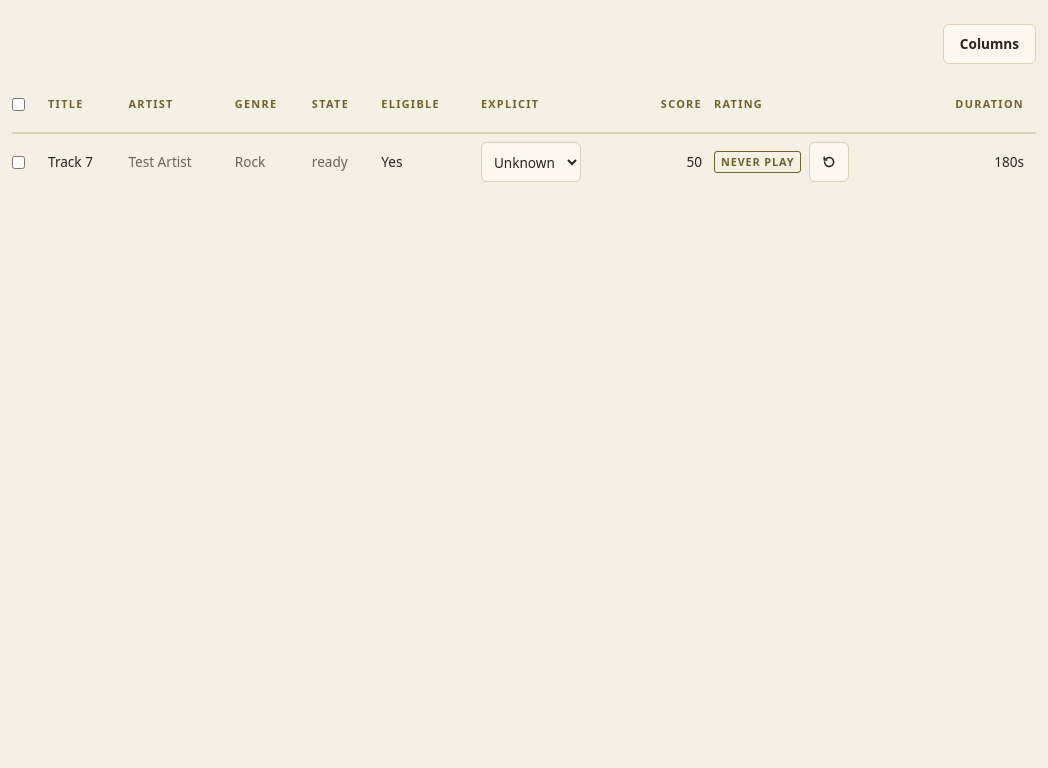
Scenario: Feature: Rating state in the Catalog page › Scenario: failures surface (sad path) › a failed restore toasts the outcome and keeps the badge (F31.3)
Click the button named "Restore to rotation".
click(829, 162)  # box [809, 142, 849, 182]
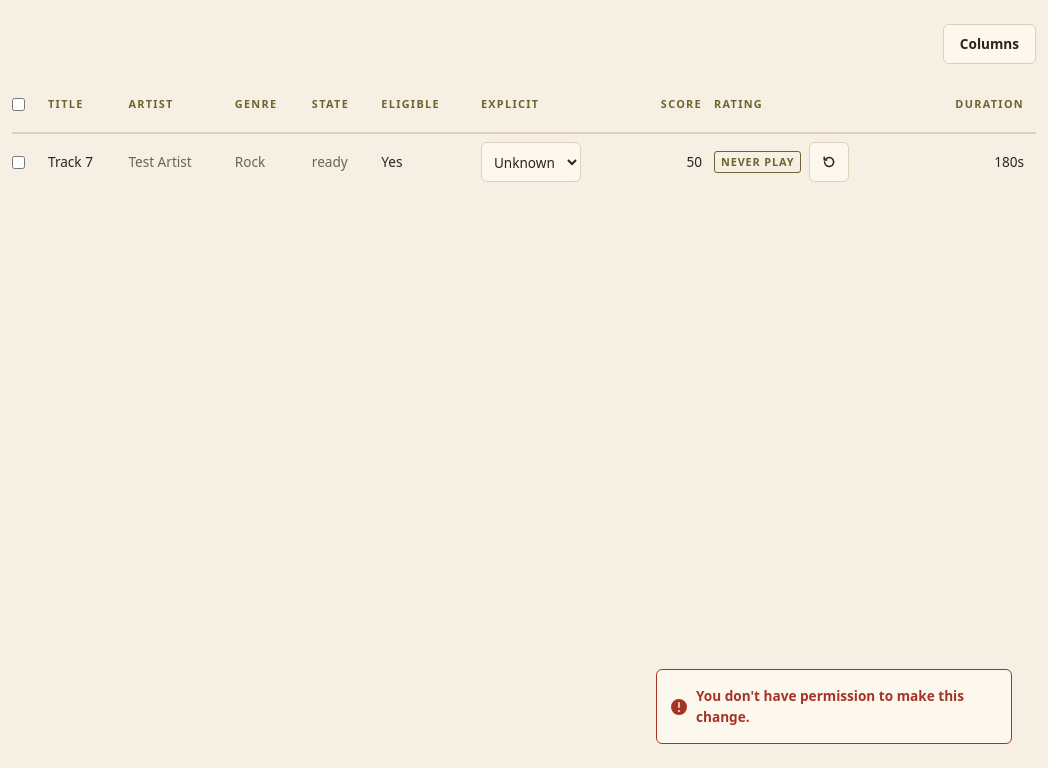
Expected: the text "Never play" is shown, [714, 151, 801, 173]
Expected: the text "You don't have permission to make this change." is shown, [696, 686, 995, 727]
